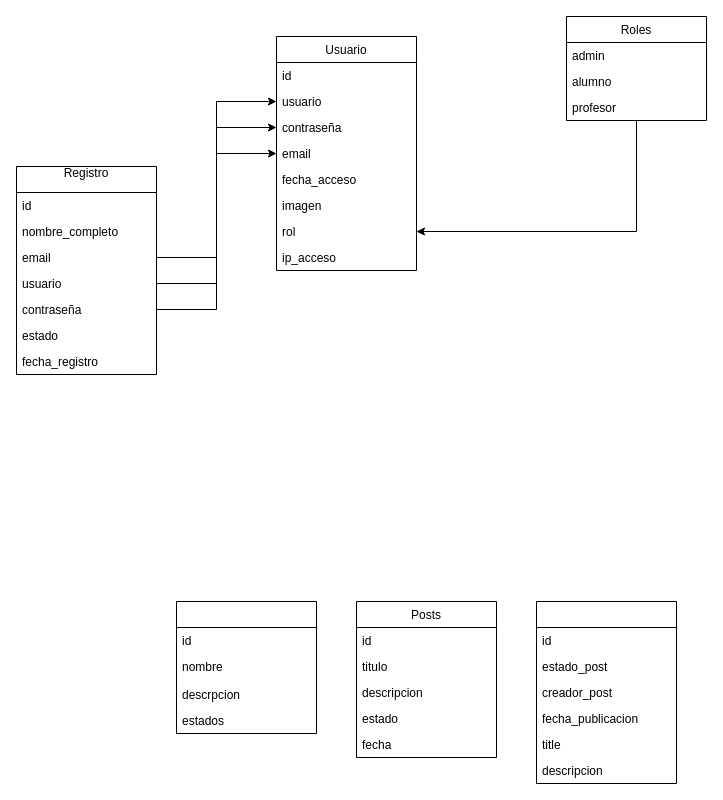
The diagram is 723 pixels wide and 800 high, and some of its shapes have lost their labels. Each missing label, with the box of its shape:
Notas: (176, 600, 316, 734)
Recientes_posts: (536, 600, 676, 784)
